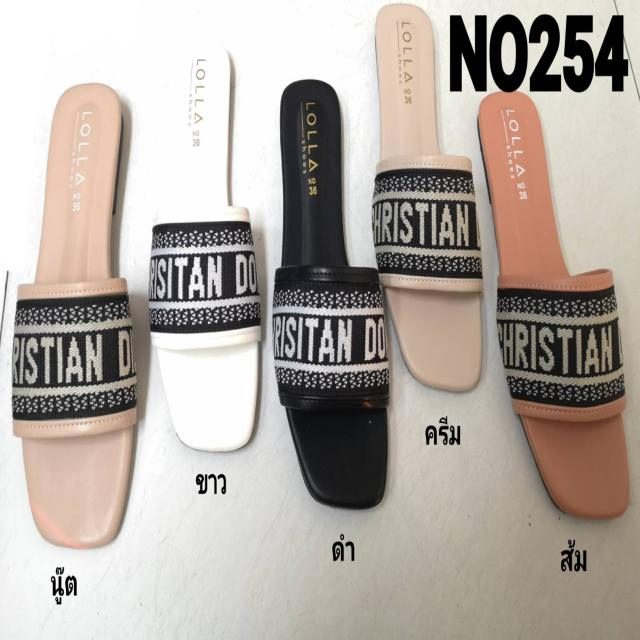black: (279, 80, 390, 510)
cream: (372, 4, 484, 397)
nood: (17, 86, 138, 554)
orange: (476, 94, 630, 520)
white: (154, 41, 259, 460)
